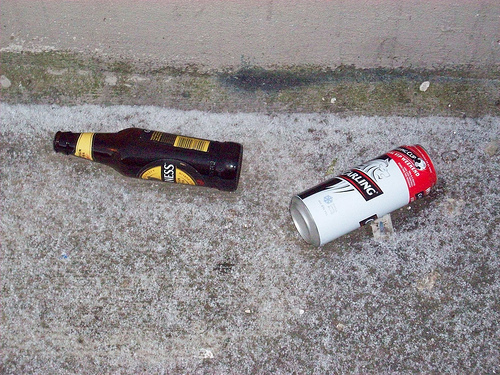litter: (290, 144, 437, 249), (53, 126, 243, 193)
